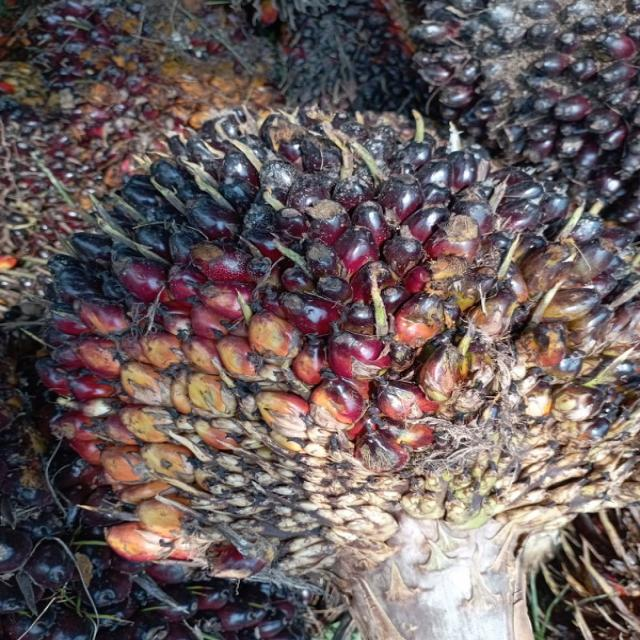fraksi 1: (40, 123, 640, 560)
